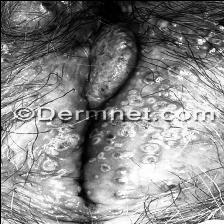Toxin: (91, 130, 158, 190), (154, 5, 224, 52)
